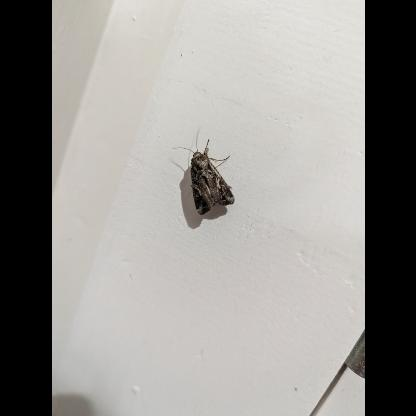Fall Armyworm Moth: (170, 134, 235, 216)
